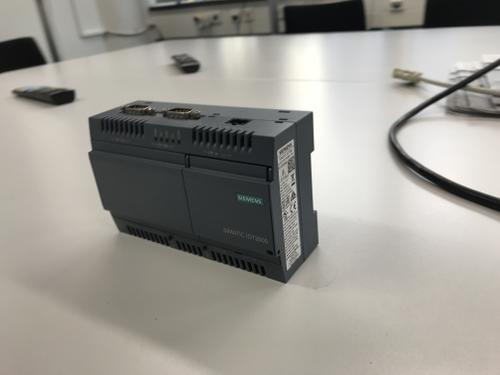device: (89, 100, 319, 285)
